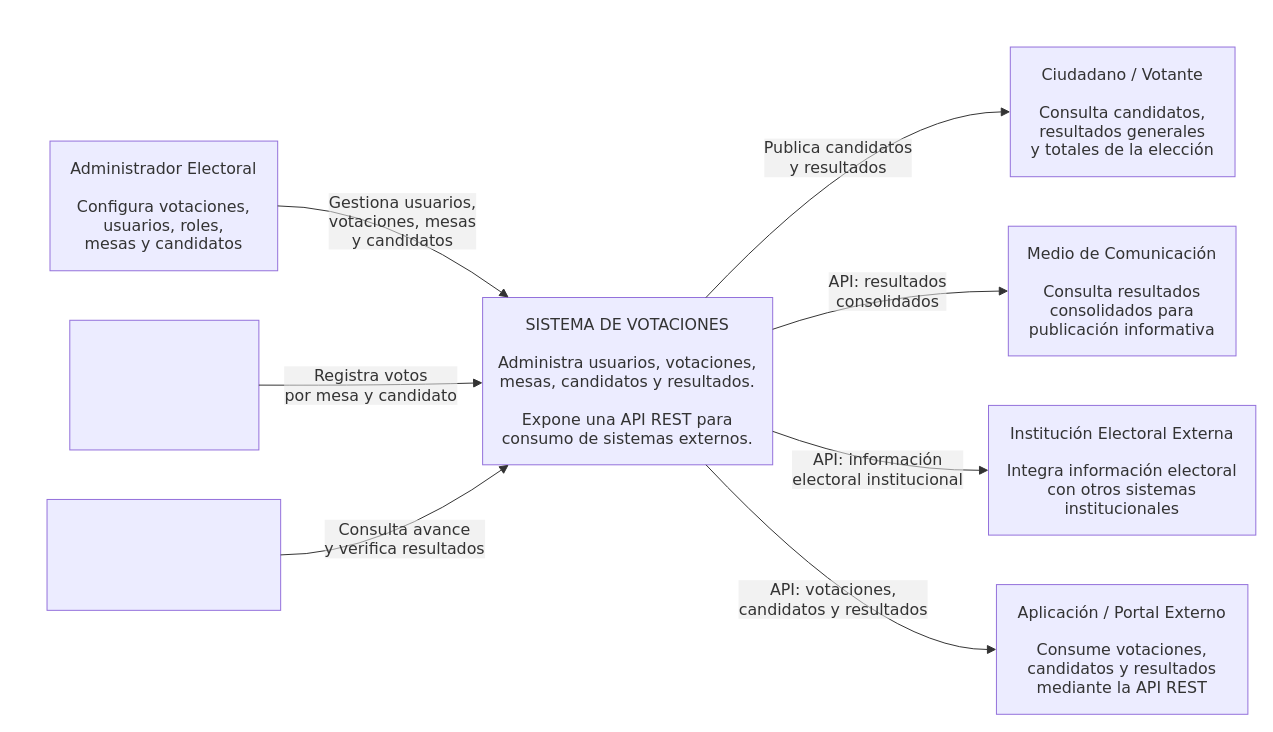
Image size: 1273x732. Some labels were removed from this diagram. The centre of each missing label's shape, as x and y in pixels:
"Digitador de Mesa Registra los votos obtenidos en cada mesa electoral" goes at (x=164, y=384).
"upervisor Electoral Revisa resultados, avance e inconsistencias" goes at (x=163, y=554).
